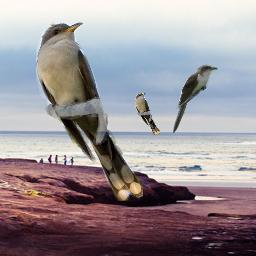Cuckoo: (36, 22, 143, 201), (171, 64, 218, 134), (135, 93, 160, 135)
